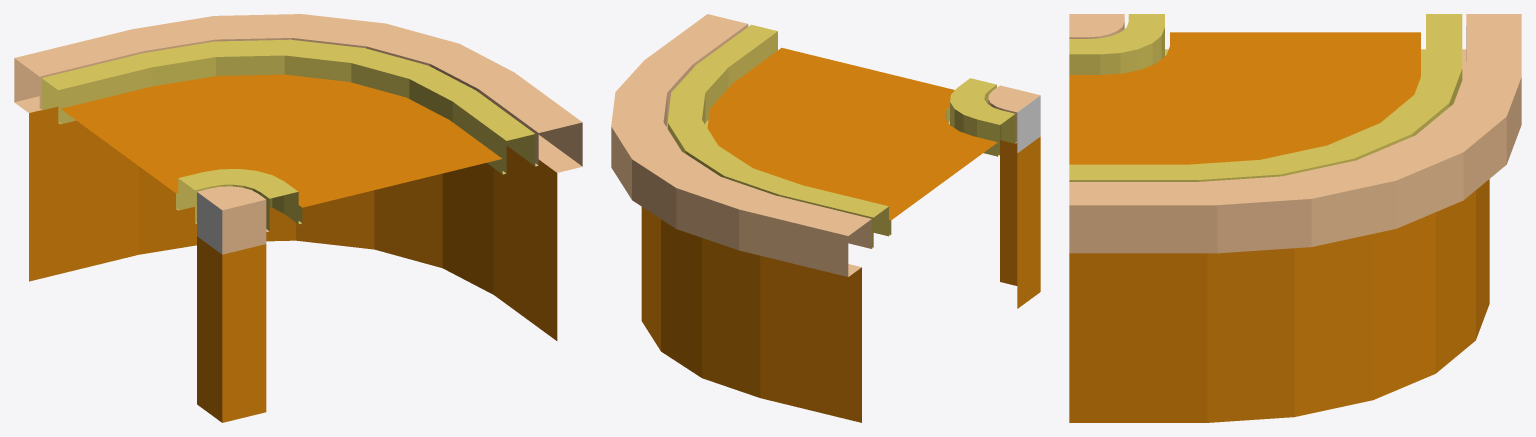
Rendered from co_corner.fbx.
3 renders of one model, left to right at view 1: azimuth 30°, elevation 25°; view 2: azimuth 150°, elevation 25°; view 3: azimuth 270°, elevation 25°, orthographic. The views are drawn at different scales.
Visible parts, largest first — view 1: Cube.002; view 2: Cube.002; view 3: Cube.002.
Part boxes in pixels (box(x1,y1,x2,y2)): Cube.002: box(14, 14, 582, 422); Cube.002: box(611, 14, 1040, 422); Cube.002: box(1069, 14, 1521, 422).
Bounding box in the file's own units: 100 × 56.43 × 100.
